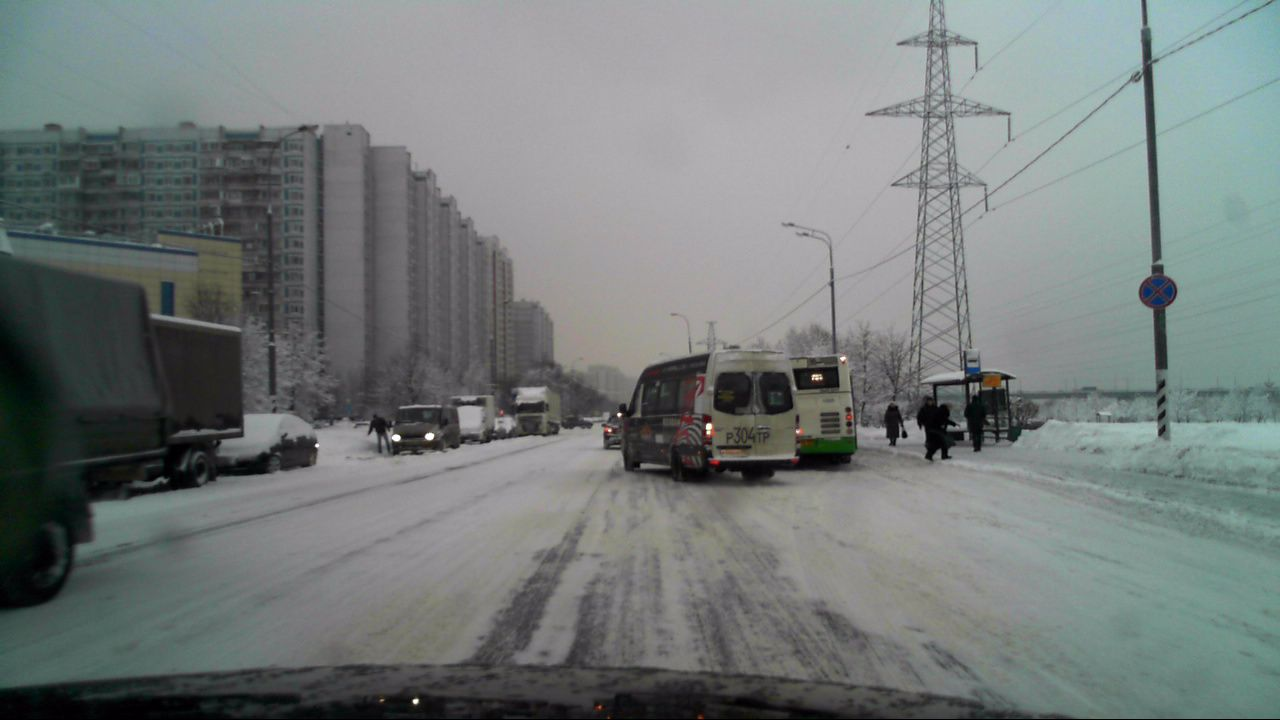No Parking: (1133, 270, 1180, 312)
